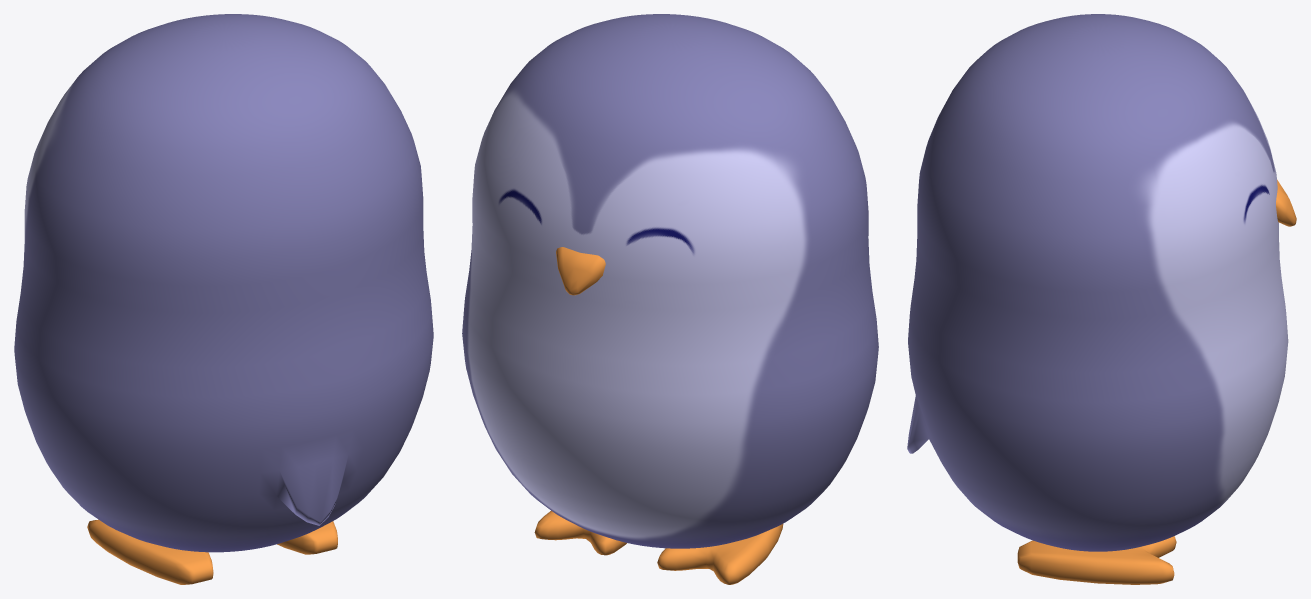
Rendered from penguin.fbx.
3 renders of one model, left to right at view 1: azimuth 30°, elevation 25°; view 2: azimuth 150°, elevation 25°; view 3: azimuth 270°, elevation 25°, orthographic.
Parts seen in each view (by area): view 1: Sphere, Cube; view 2: Sphere, Cube, Plane; view 3: Sphere, Cube, Plane.
Part boxes in pixels (left/top/right/bottom): Sphere: left=14, top=14, right=433, bottom=552; Cube: left=87, top=519, right=337, bottom=584; Sphere: left=462, top=14, right=878, bottom=548; Cube: left=534, top=511, right=783, bottom=584; Plane: left=556, top=247, right=605, bottom=295; Sphere: left=907, top=14, right=1288, bottom=551; Cube: left=1017, top=536, right=1176, bottom=584; Plane: left=1276, top=179, right=1296, bottom=226.
Bounding box in the file's own units: 191 × 250 × 176.
Materials: 1 (1 with a texture image).
